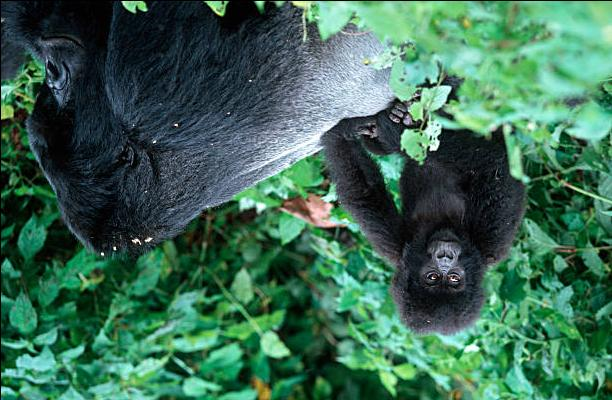goriile_montagne: (9, 3, 487, 258), (335, 125, 523, 353)
